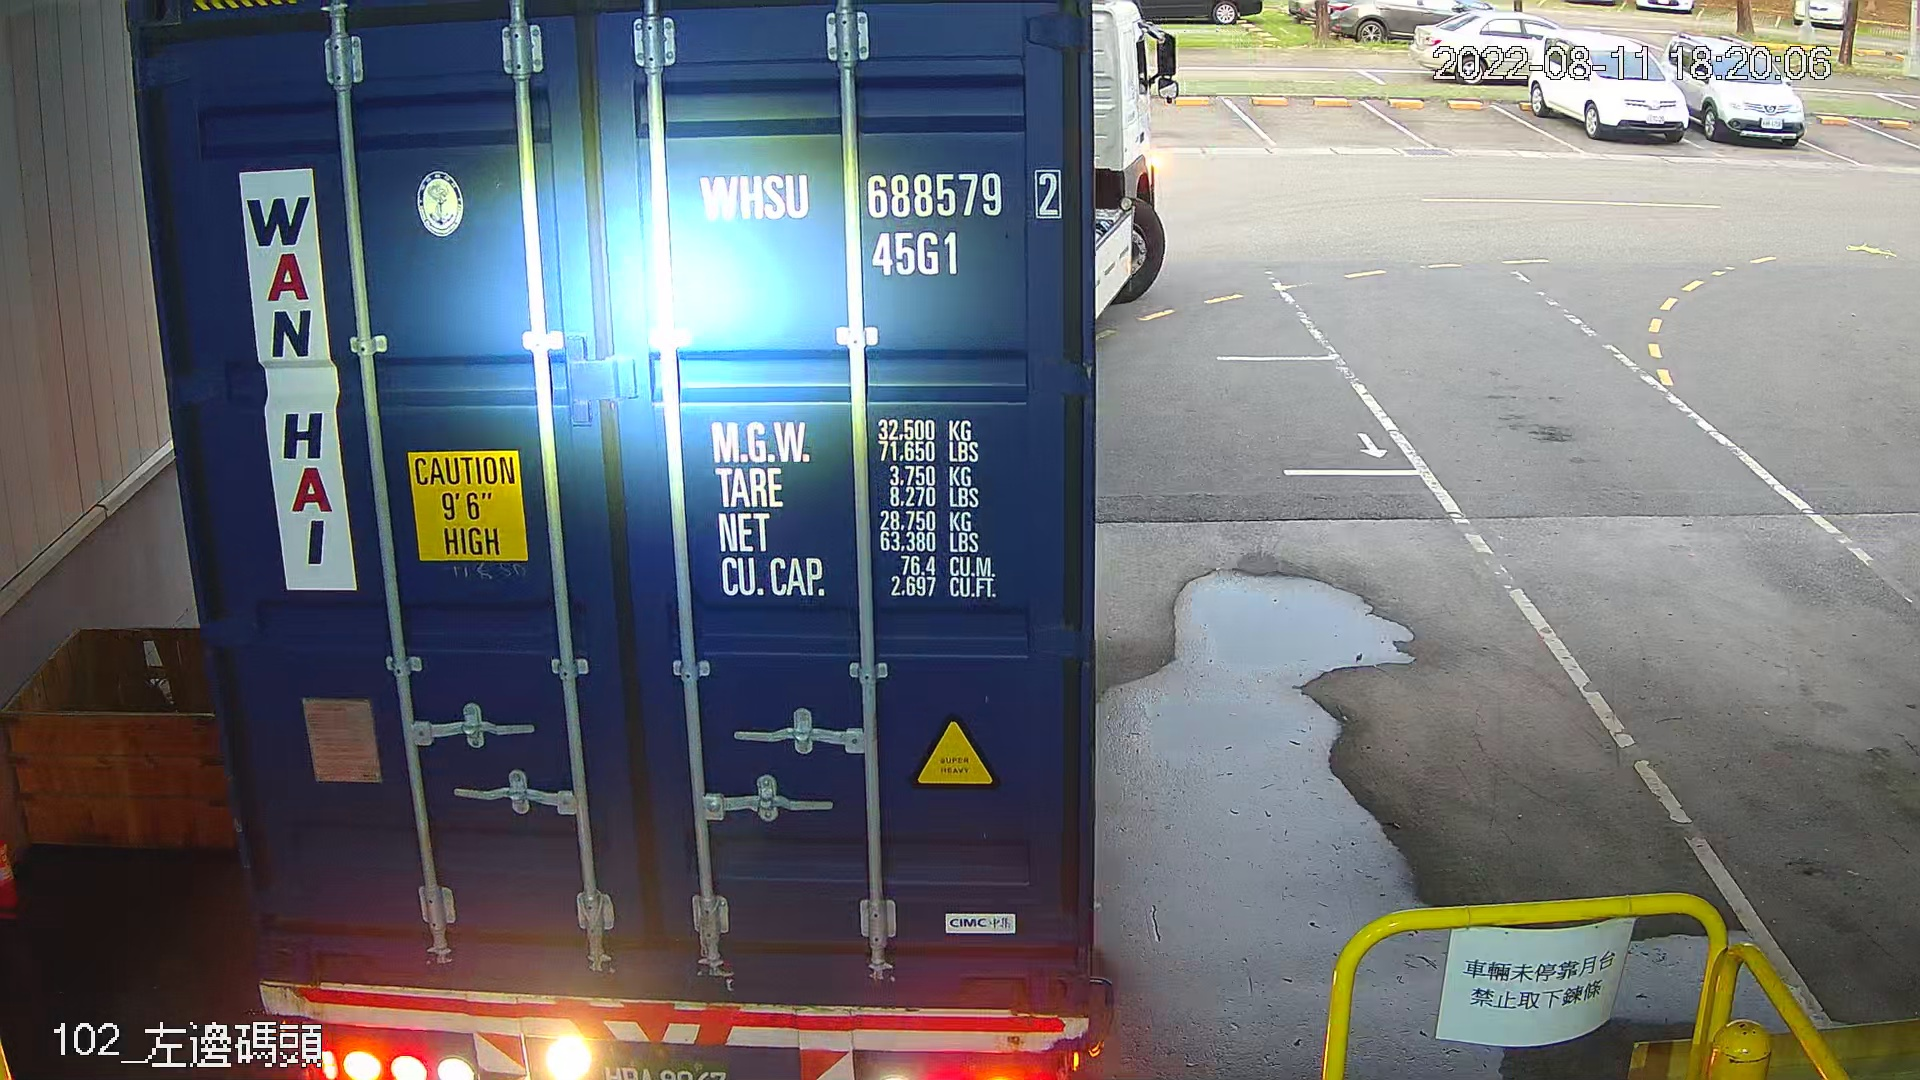container: (678, 161, 1073, 289)
